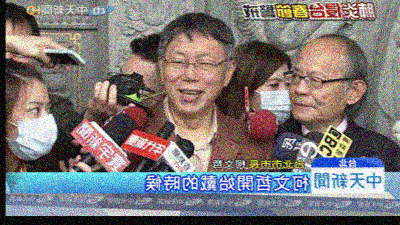with_mask: (7, 98, 58, 158), (250, 76, 293, 127)
without_mask: (162, 47, 224, 117), (290, 63, 350, 127)
